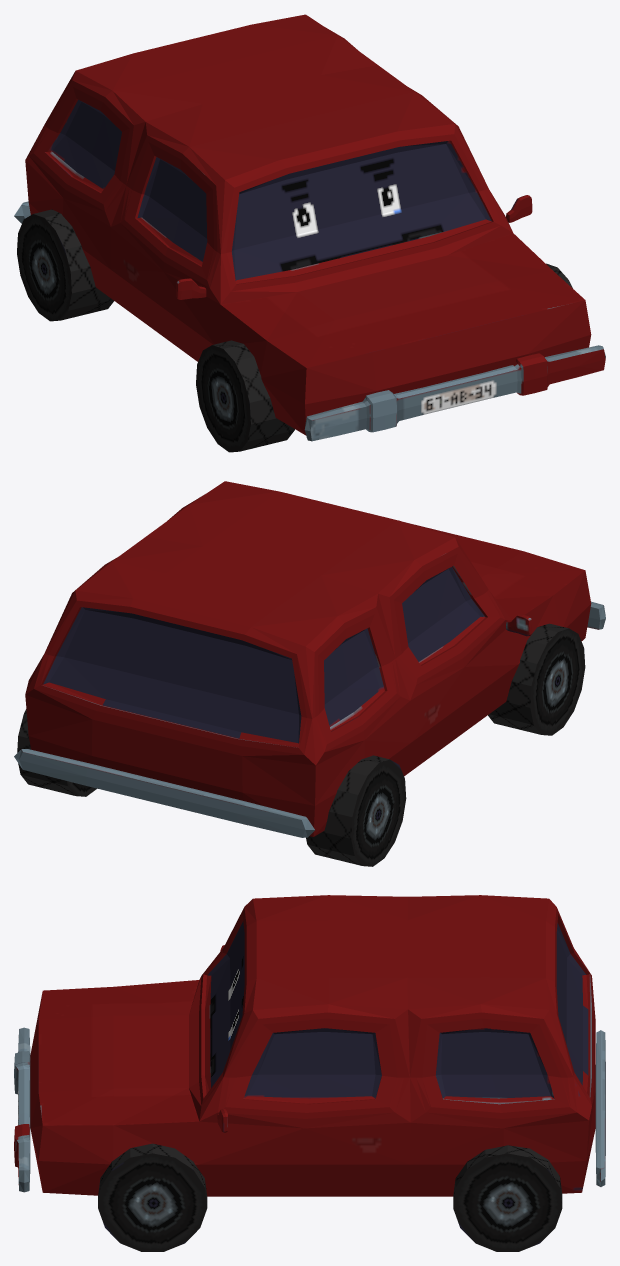
The model's file is Carro.fbx.
The picture shows the model from 3 angles, top to bottom: view 1: azimuth 30°, elevation 25°; view 2: azimuth 150°, elevation 25°; view 3: azimuth 270°, elevation 25°; orthographic projection.
Visible parts, largest first — view 1: Carro; view 2: Carro; view 3: Carro.
Boxes of the visible parts, bbox=[...] form: Carro: bbox=[14, 14, 605, 452]; Carro: bbox=[14, 481, 605, 866]; Carro: bbox=[14, 895, 605, 1251].
Size of the model in its own units: 236 by 142 by 343.
2 materials, 2 textured.
